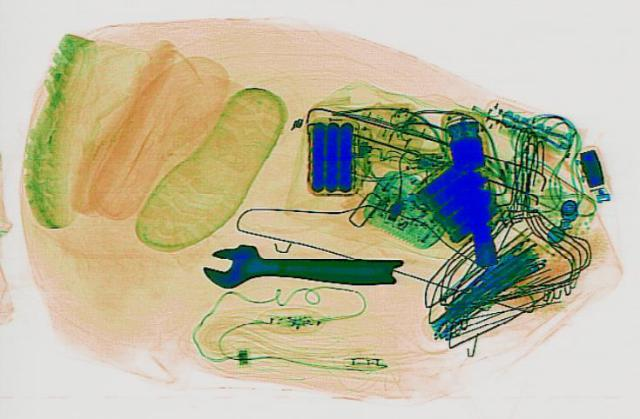Wrench: (200, 240, 404, 296)
